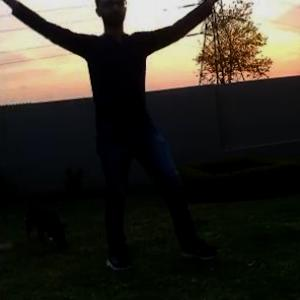takeoff: (5, 0, 215, 241)
